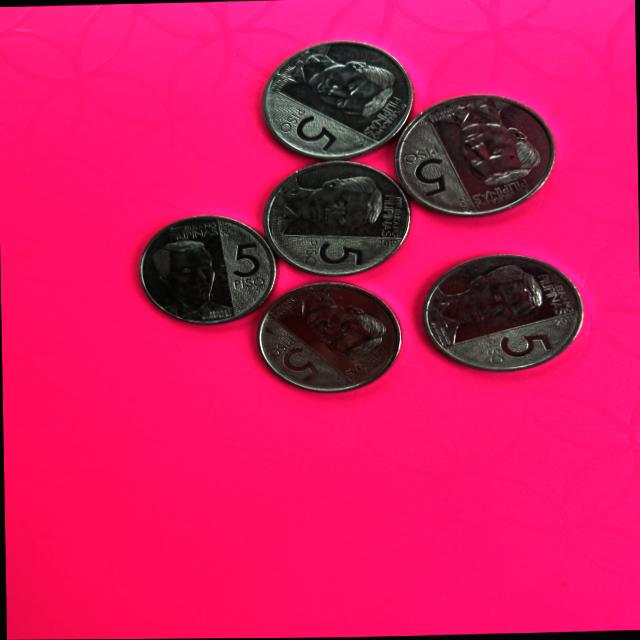5_New_Front: (278, 102, 347, 153), (399, 145, 458, 204), (470, 327, 557, 366), (266, 333, 327, 384), (218, 234, 270, 290), (294, 235, 367, 272)
